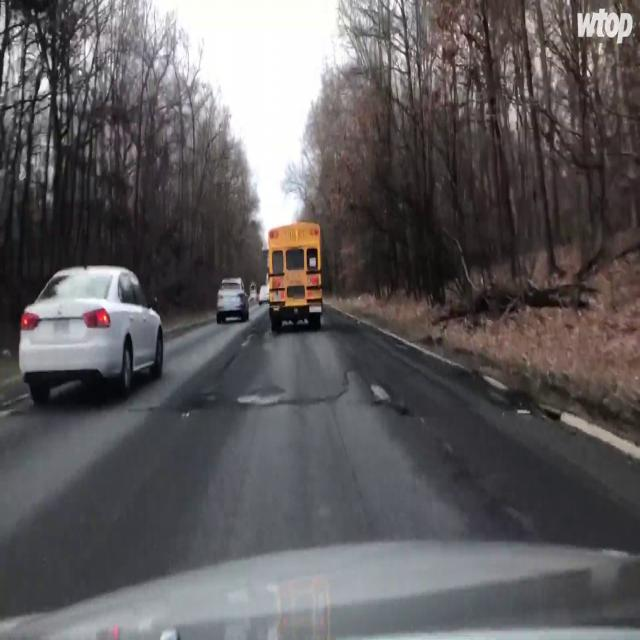Pothole: (370, 381, 392, 401), (240, 394, 278, 404), (242, 332, 257, 346)
